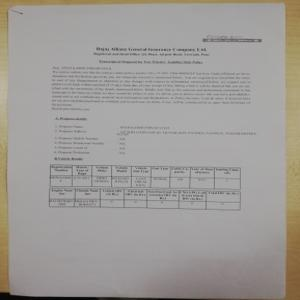table: (47, 163, 241, 189), (48, 187, 241, 211)
text: (49, 107, 259, 157), (47, 65, 254, 104), (88, 44, 214, 54), (95, 56, 206, 66)
